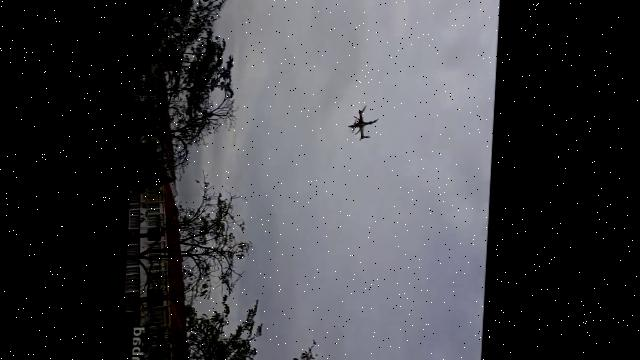drone: (347, 104, 383, 142)
